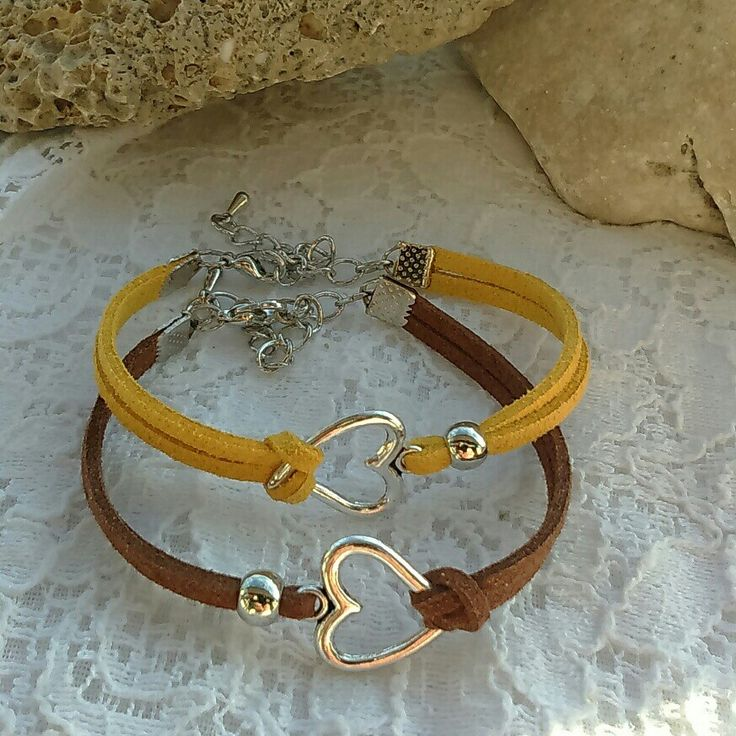gamuza: (80, 246, 593, 630)
